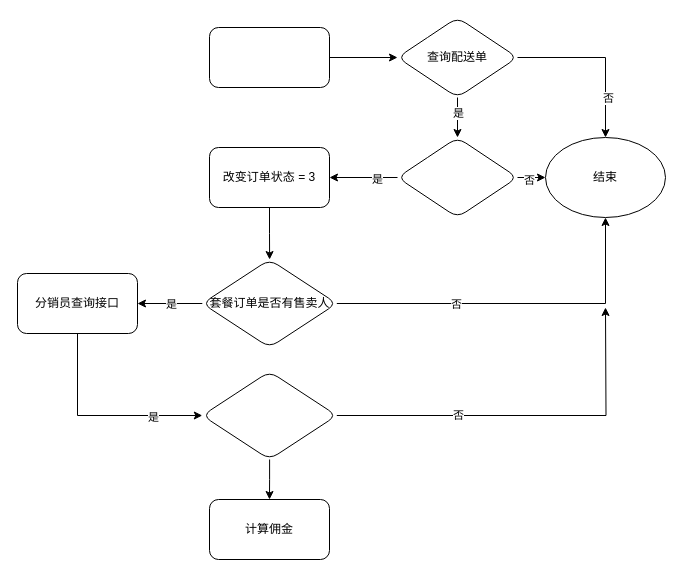
Image size: 683x577. Some labels were removed from this diagram. The shapes that lost their labels are listed below. From the top down, each one's box as (x1, y1, x2, y2) in pixels, then its label:
(208, 26, 330, 88): 用户确认收货
(396, 136, 518, 218): 是否发货 订单状态 !=2
(201, 370, 337, 460): 是否分销员
